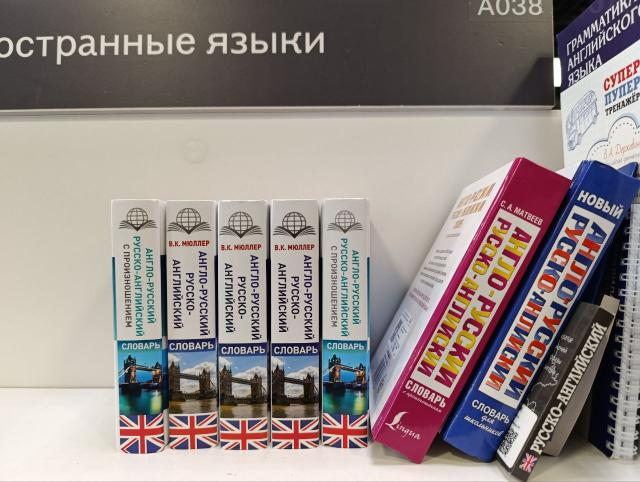book-s-spine: (372, 156, 573, 465), (444, 159, 640, 465), (511, 307, 615, 482), (111, 198, 165, 454), (166, 200, 218, 450), (218, 200, 267, 450), (272, 199, 319, 449), (322, 198, 368, 450)
